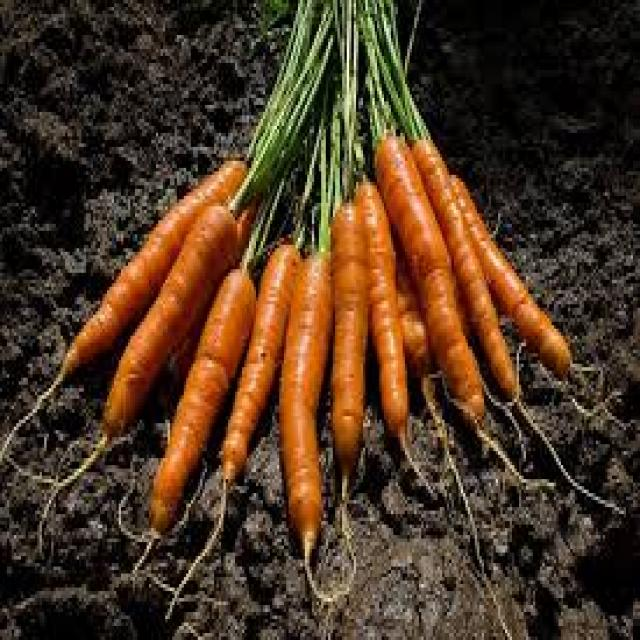Fresh_Carrot: (375, 133, 483, 425)
